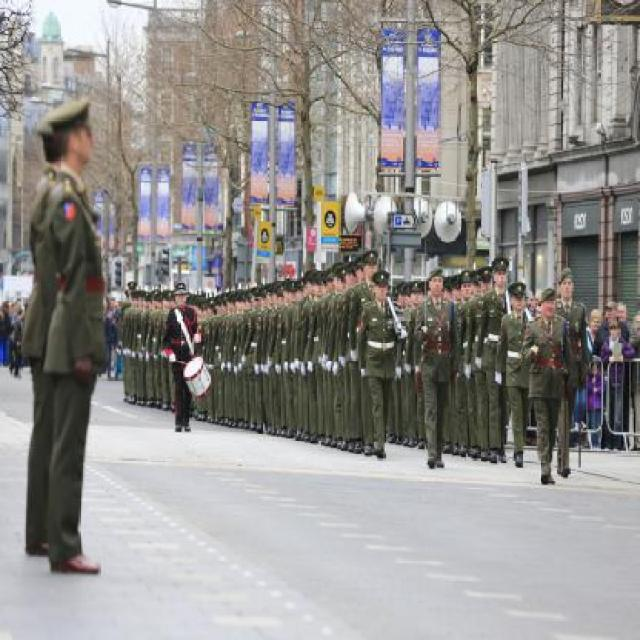Person: (110, 235, 639, 493), (15, 91, 110, 598)
